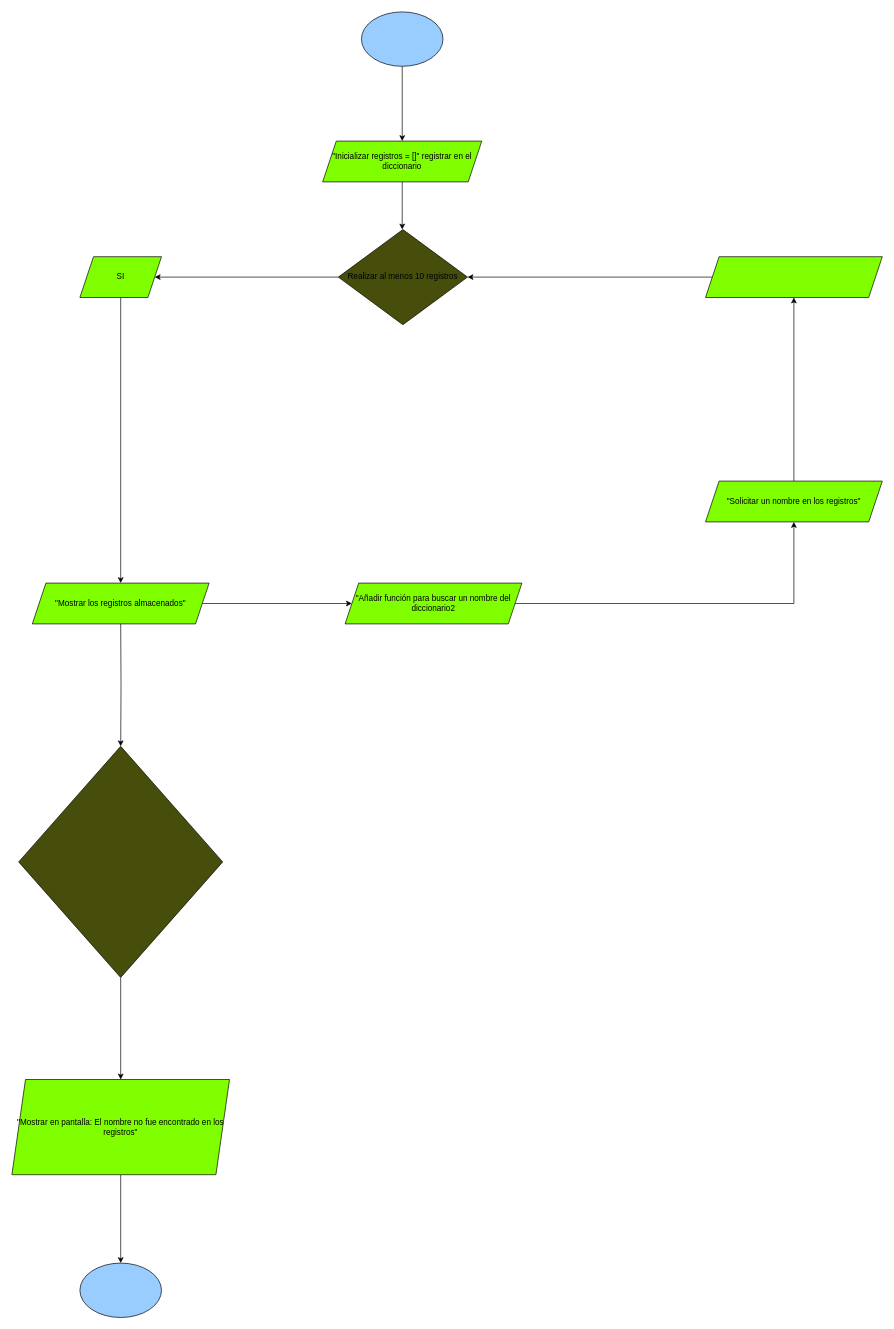
Image size: 894x1329. Some labels were removed from this diagram. The shapes that lost their labels are listed below. From the top down, each one's centre as x and y in pixels, then its label:
the point at 402,38: INICIO
the point at 793,277: "Buscar el nombre en los registros"
the point at 120,862: ¿NO SE ENCONTRO NINGUN REGISTRO CON ESE NOMBRE?
the point at 120,1290: FIN
